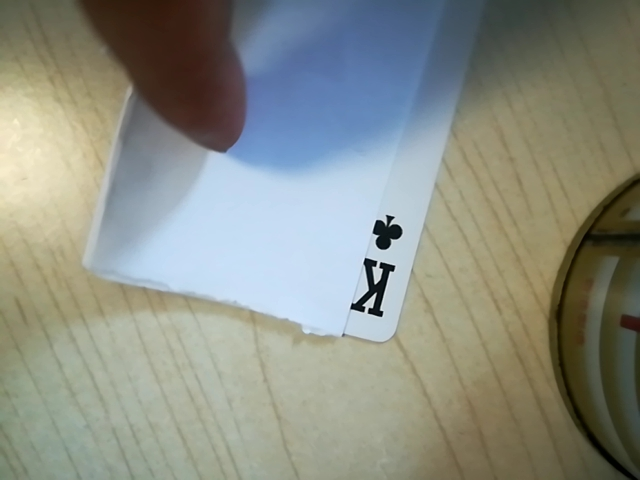mh k: (341, 199, 406, 333)
